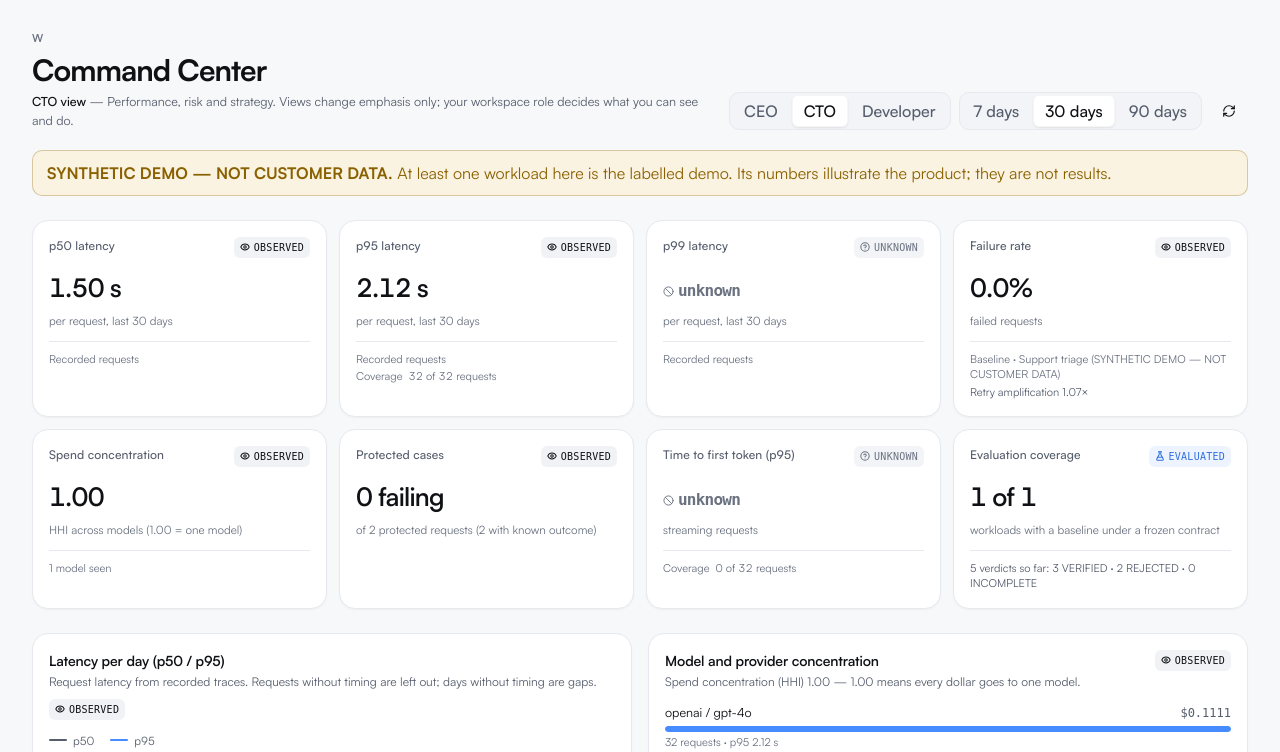
Test: Command Center › switching views changes emphasis but not the data request or permissions
Click the radio button labelled "Developer" at (899, 111), box [850,95,948,127]
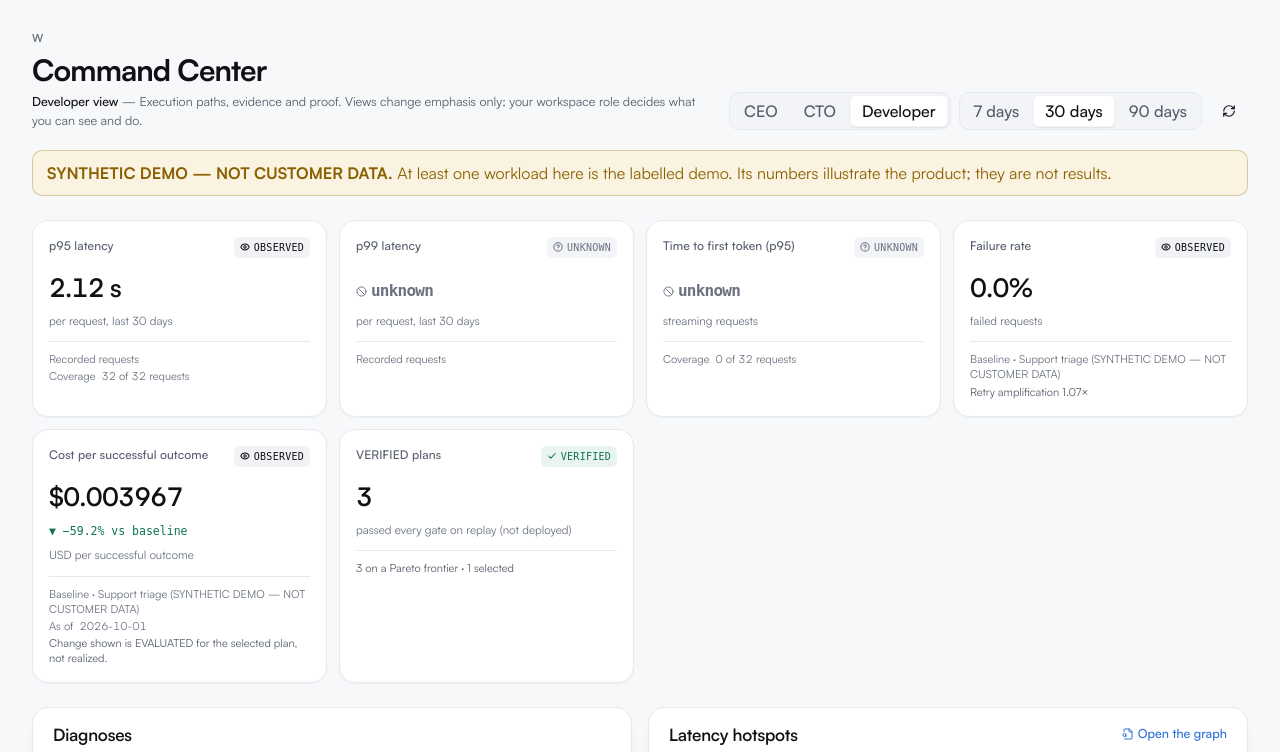
Click the radio button labelled "CEO" at (761, 111), box [732,95,790,127]
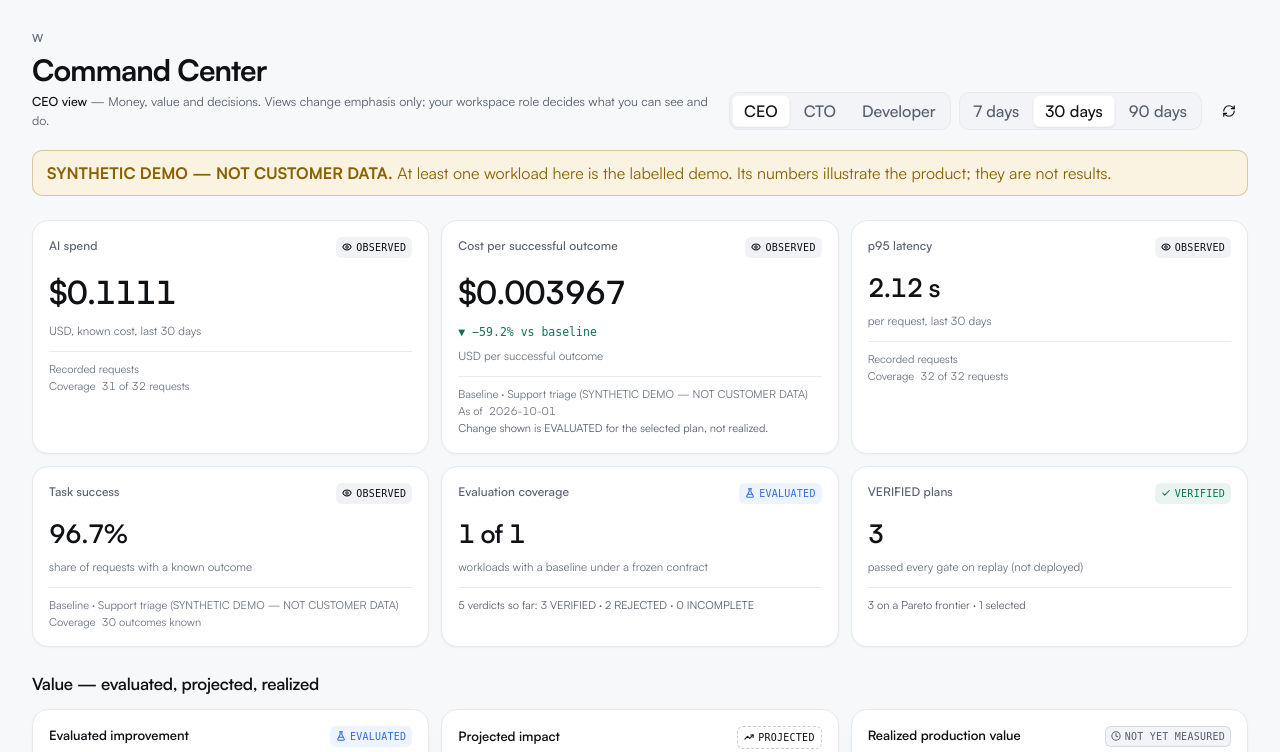
Expected: the text "your workspace role decides what you can see and do" is shown, [32,93,708,128]
Expected: the heading "Evaluated improvement" is shown, [49,726,189,746]
